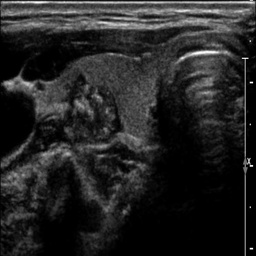mass: (69, 79, 118, 142)
